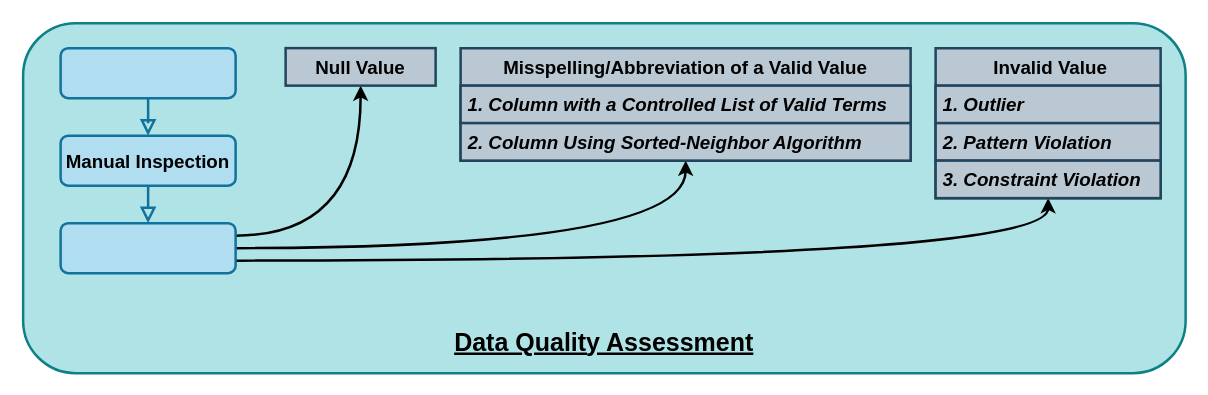
The diagram is 1208 pixels wide and 395 high, and some of its shapes have lost their labels. The shapes that lost their labels are listed below. From the top down, each one's centre as x and y in pixels, then its label:
At (x=147, y=72): "Data Profiling".
At (x=147, y=247): "Error Detection".
